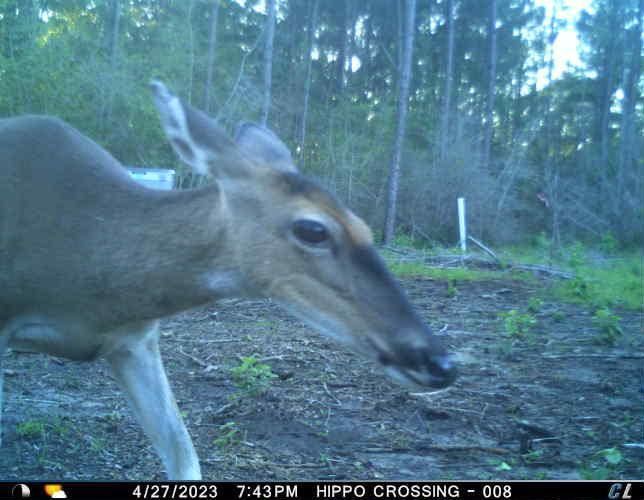Deer: (0, 72, 467, 481)
